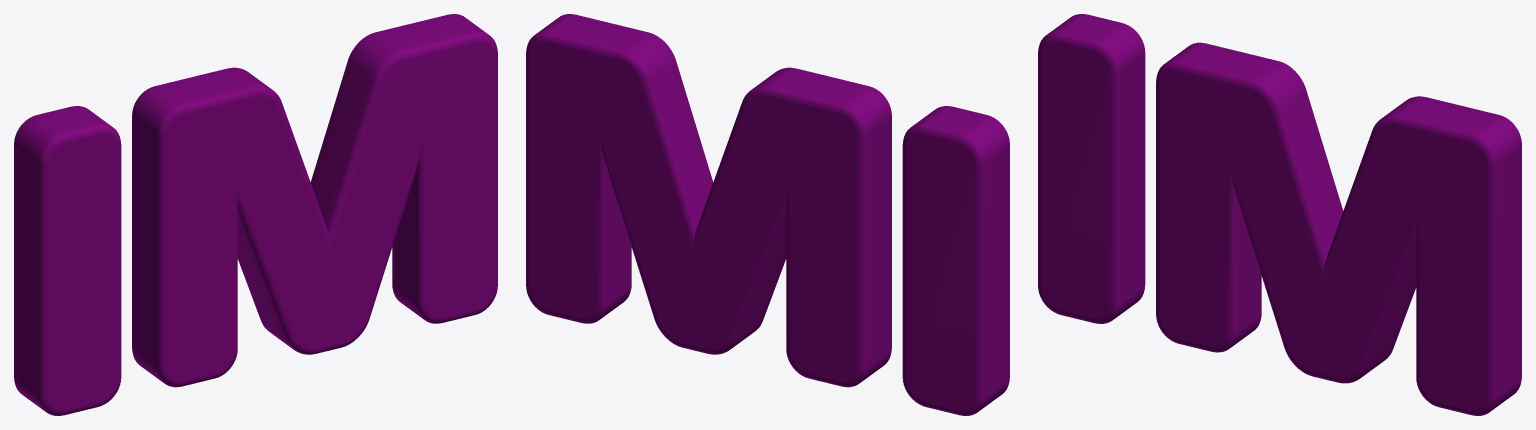
3 renders of one model, left to right at view 1: azimuth 30°, elevation 25°; view 2: azimuth 150°, elevation 25°; view 3: azimuth 330°, elevation 25°, orthographic.
Parts seen in each view (by area): view 1: IM; view 2: IM; view 3: IM.
Part boxes in pixels (x1,y1,x2,y2): IM: (14, 14, 497, 415); IM: (526, 14, 1009, 415); IM: (1038, 14, 1521, 415).
Size of the model in its own units: 21.52 by 12.67 by 2.5.
